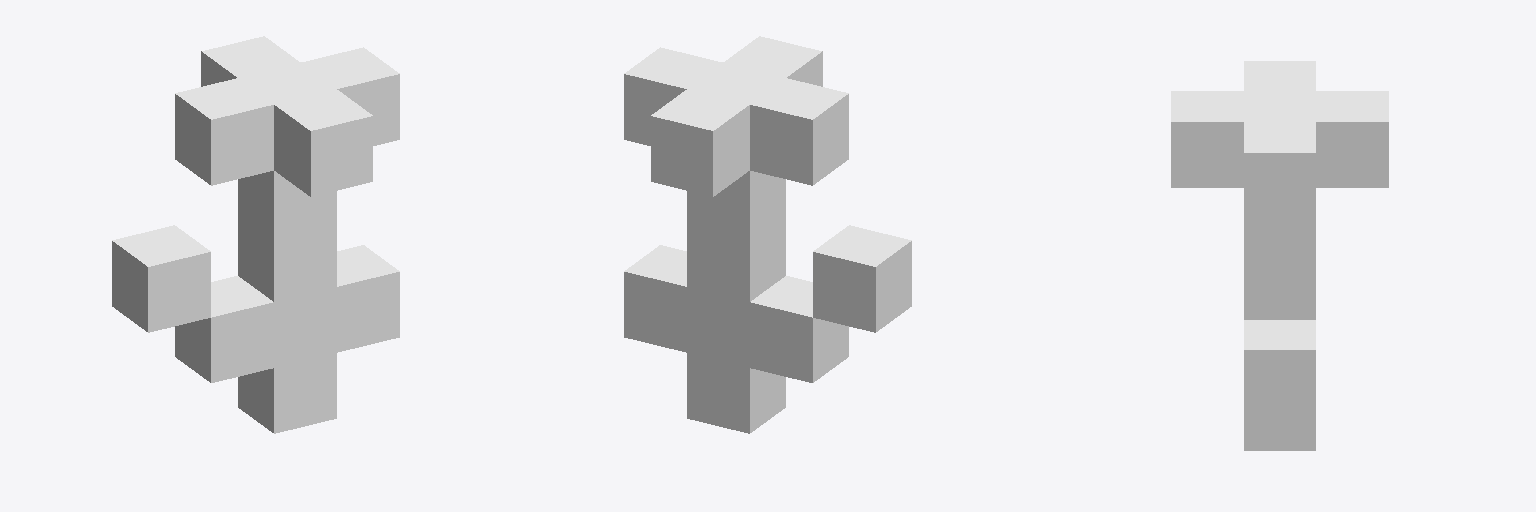
Rendered from start_end-16.obj.
3 renders of one model, left to right at view 1: azimuth 30°, elevation 25°; view 2: azimuth 150°, elevation 25°; view 3: azimuth 270°, elevation 25°, orthographic.
Visible parts, largest first — view 1: object 1; view 2: object 1; view 3: object 1.
Boxes of the visible parts, box(x1,y1,x2,y2) form: object 1: box(112, 36, 399, 433); object 1: box(624, 36, 911, 433); object 1: box(1171, 61, 1388, 450).
Size of the model in its own units: 0.4 by 0.5 by 0.3.